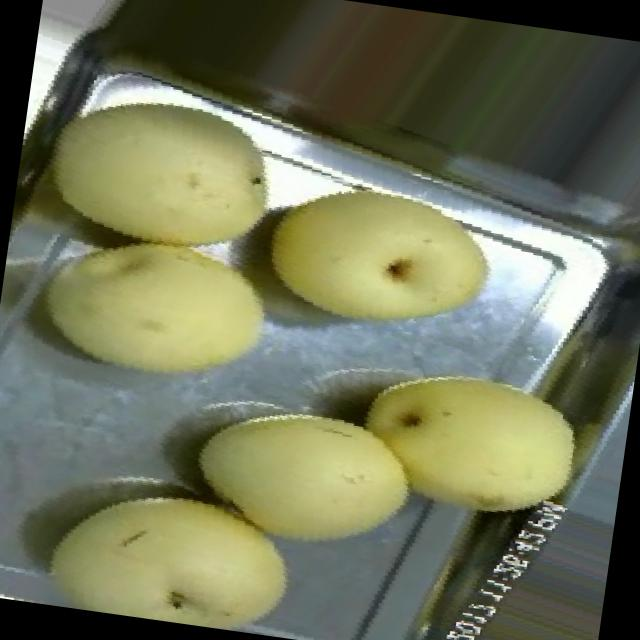Fruit: (8, 36, 322, 292), (8, 181, 307, 423), (230, 136, 524, 373), (329, 333, 611, 561), (164, 366, 438, 590), (22, 451, 320, 640)
